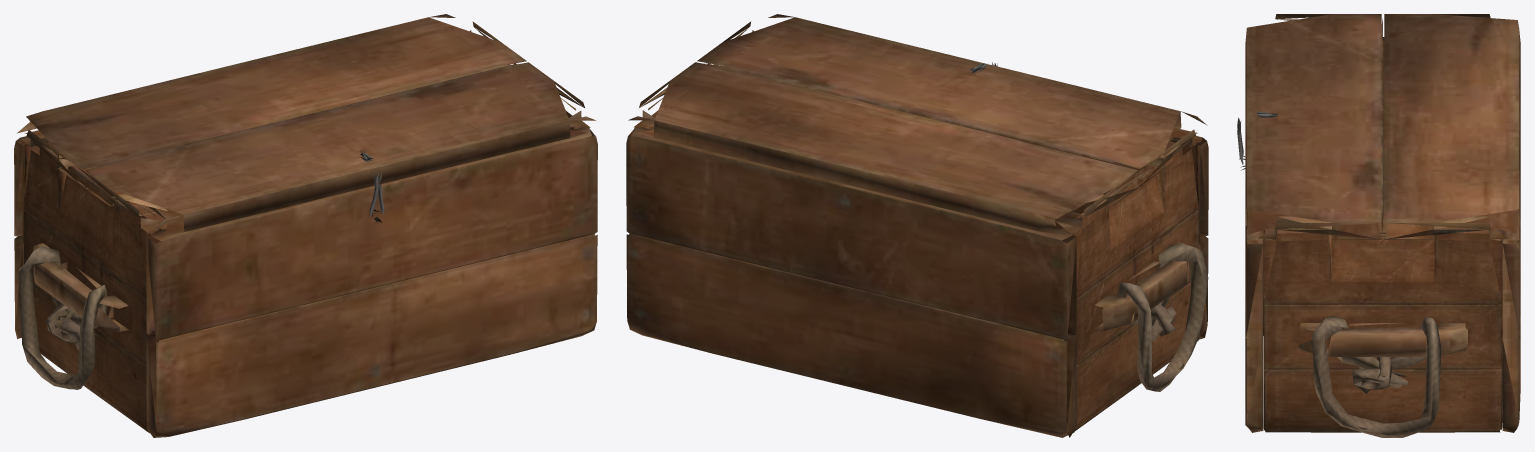
The model's file is wooden_crate_01.gltf.
The picture shows the model from 3 angles, left to right: view 1: azimuth 30°, elevation 25°; view 2: azimuth 150°, elevation 25°; view 3: azimuth 270°, elevation 25°; orthographic projection. The views are drawn at different scales.
Parts seen in each view (by area): view 1: wooden_crate_01, wooden_crate_01_lid; view 2: wooden_crate_01, wooden_crate_01_lid; view 3: wooden_crate_01_lid, wooden_crate_01, wooden_crate_01_latch.
Part boxes in pixels (bbox=[...]): wooden_crate_01: bbox=[14, 98, 597, 437]; wooden_crate_01_lid: bbox=[17, 14, 595, 235]; wooden_crate_01: bbox=[626, 98, 1208, 437]; wooden_crate_01_lid: bbox=[628, 14, 1207, 235]; wooden_crate_01_lid: bbox=[1245, 14, 1520, 239]; wooden_crate_01: bbox=[1241, 37, 1520, 437]; wooden_crate_01_latch: bbox=[1237, 111, 1278, 164].
Bounding box in the file's own units: 0.8245 × 0.3414 × 0.4027.
1 material, 1 textured.
